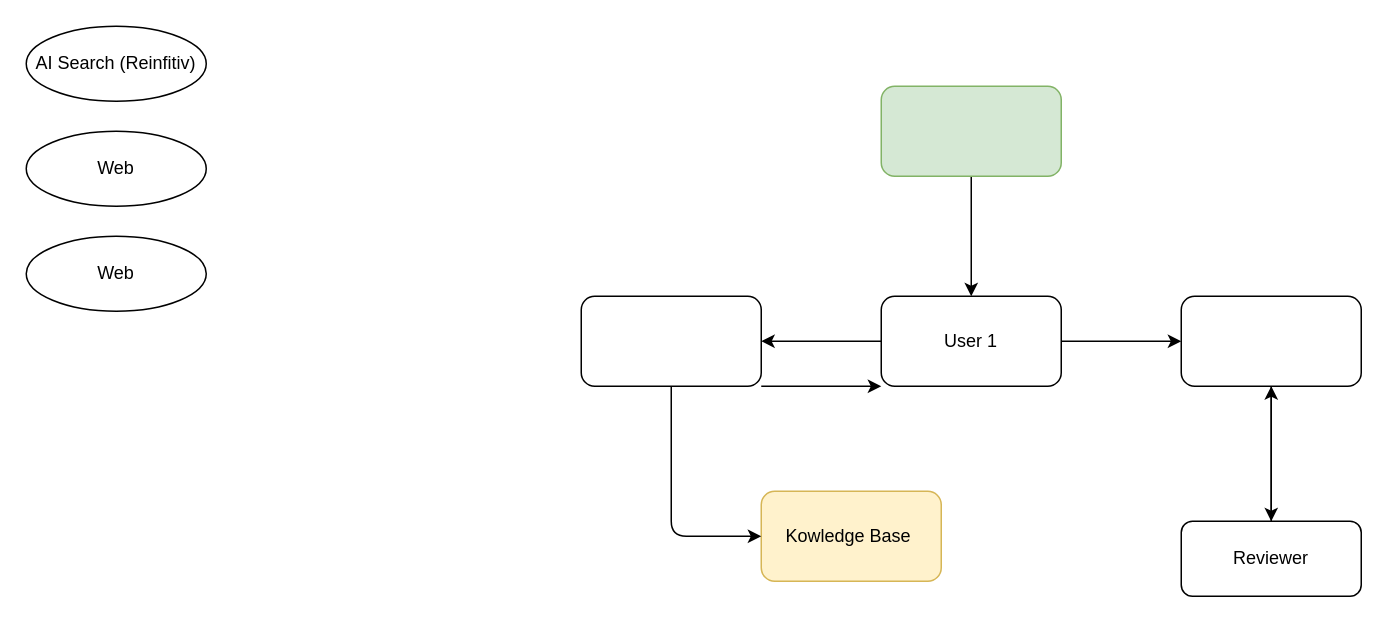
Some shapes in this 1388 by 623 pixel diagram are drawn without their labels. The shapes that lost their labels are listed below. From the top down, each one's centre as x and y in pixels, then its label:
point 970,130: Questions
point 670,340: Arxiv Collect data
point 1270,340: Researcher
